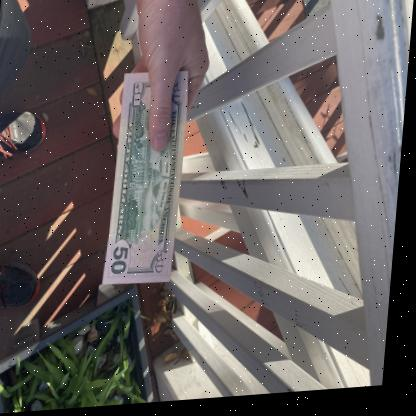fifty-back: (99, 69, 189, 286)
